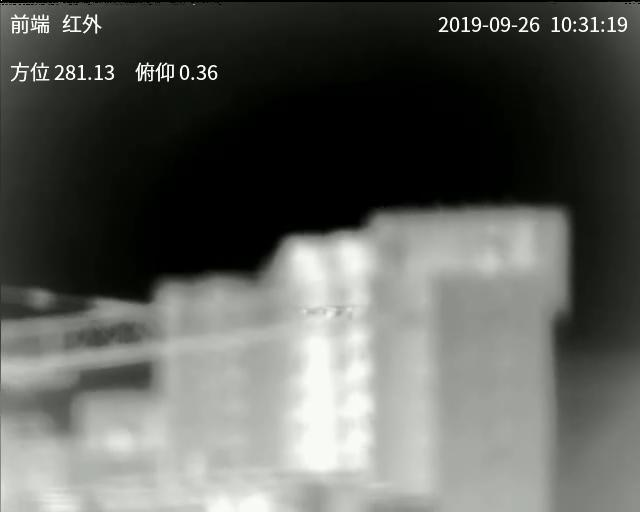uav: (306, 304, 360, 324)
